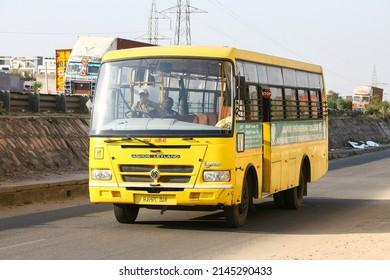bus: (92, 49, 331, 228)
truck: (65, 33, 170, 104), (352, 83, 383, 117)
